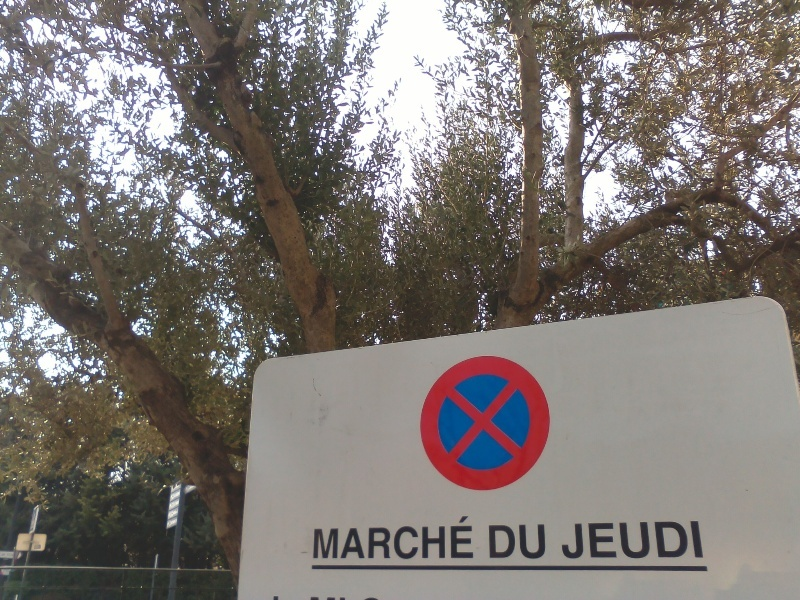text: (321, 515, 336, 561), (337, 515, 352, 561), (353, 515, 368, 561), (369, 515, 384, 561), (385, 515, 400, 561), (401, 515, 416, 561), (417, 515, 432, 561), (433, 515, 448, 561), (449, 515, 464, 561), (561, 521, 576, 560), (577, 521, 592, 560), (593, 521, 608, 560), (609, 521, 624, 560), (625, 521, 640, 560), (641, 521, 656, 560), (657, 521, 672, 560), (673, 521, 688, 560), (689, 521, 704, 560), (497, 524, 512, 559), (513, 524, 528, 559), (529, 524, 544, 559), (465, 515, 475, 561), (313, 515, 320, 561), (489, 524, 496, 559), (545, 524, 547, 559), (559, 521, 560, 560), (705, 521, 706, 560)
